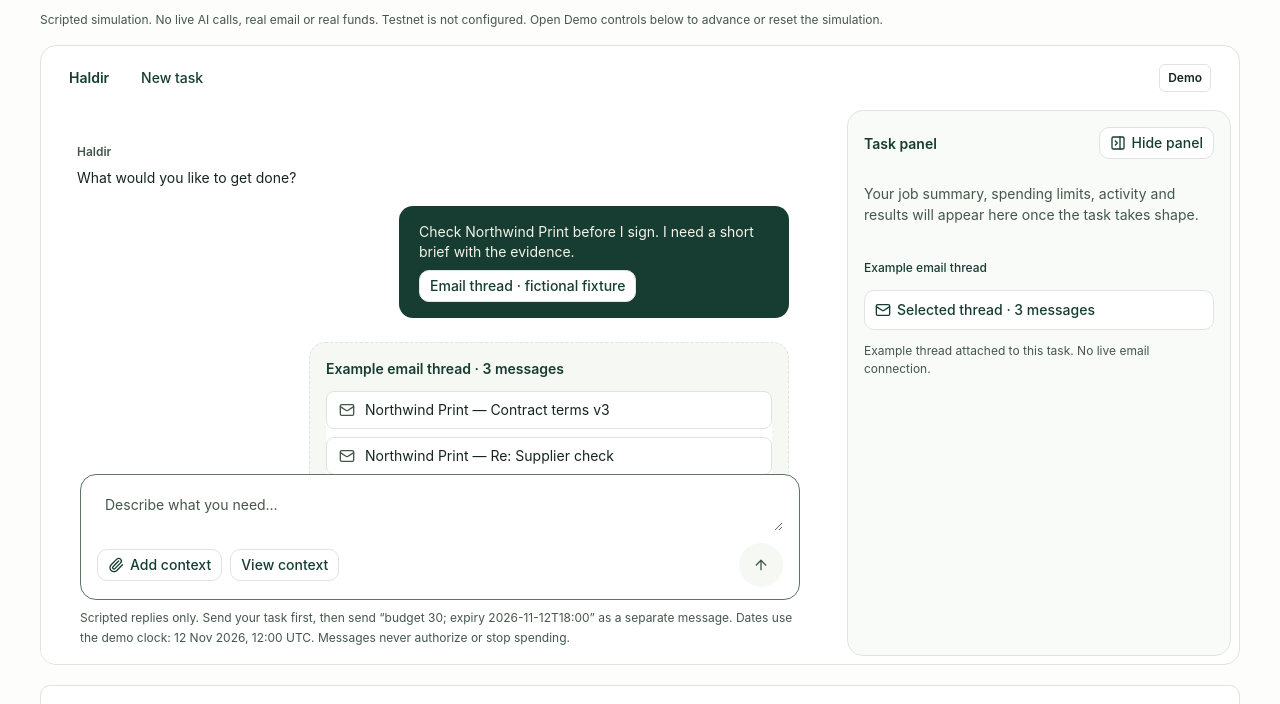
Test case: reset clears the previous context reader search
The image size is (1280, 704).
Click the button "View context".
click(285, 565)  # box 230,549 -> 339,581
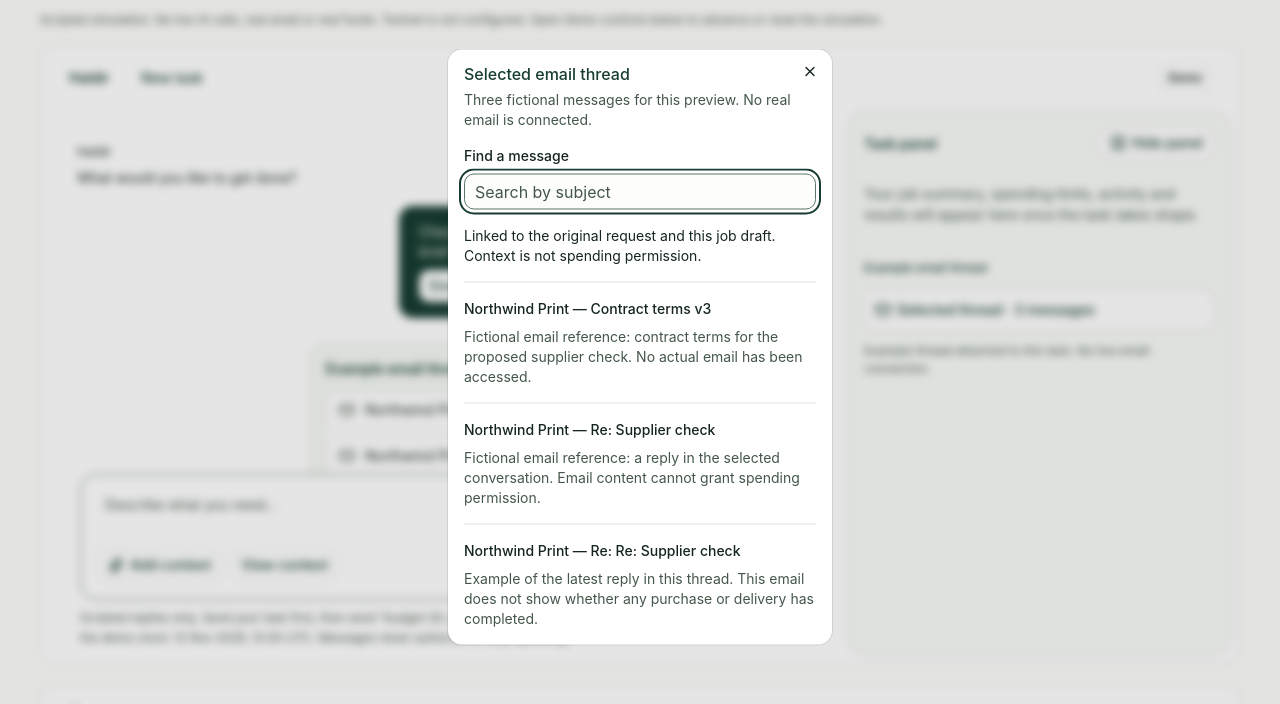
Type "no matches in old task" into the field labelled "Find a message".
click(640, 192); type("no matches in old task")  # box 464,174 -> 816,210
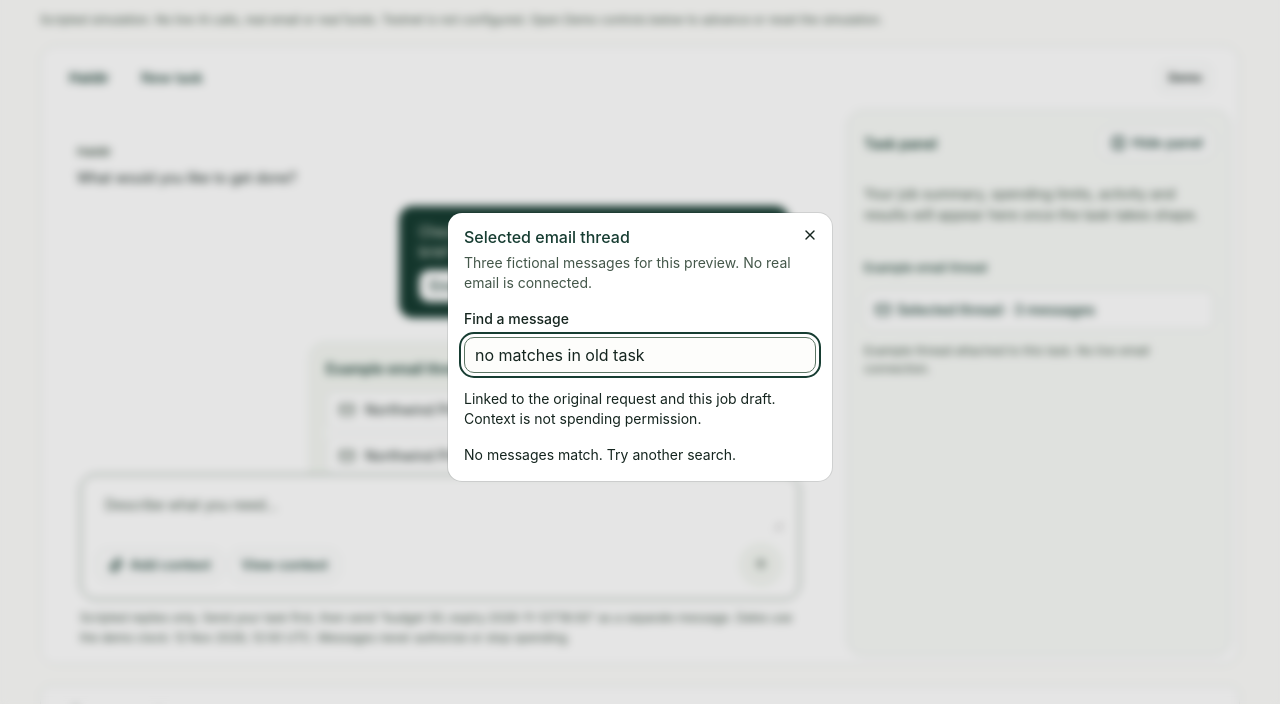
Press Escape
(page scrolled)
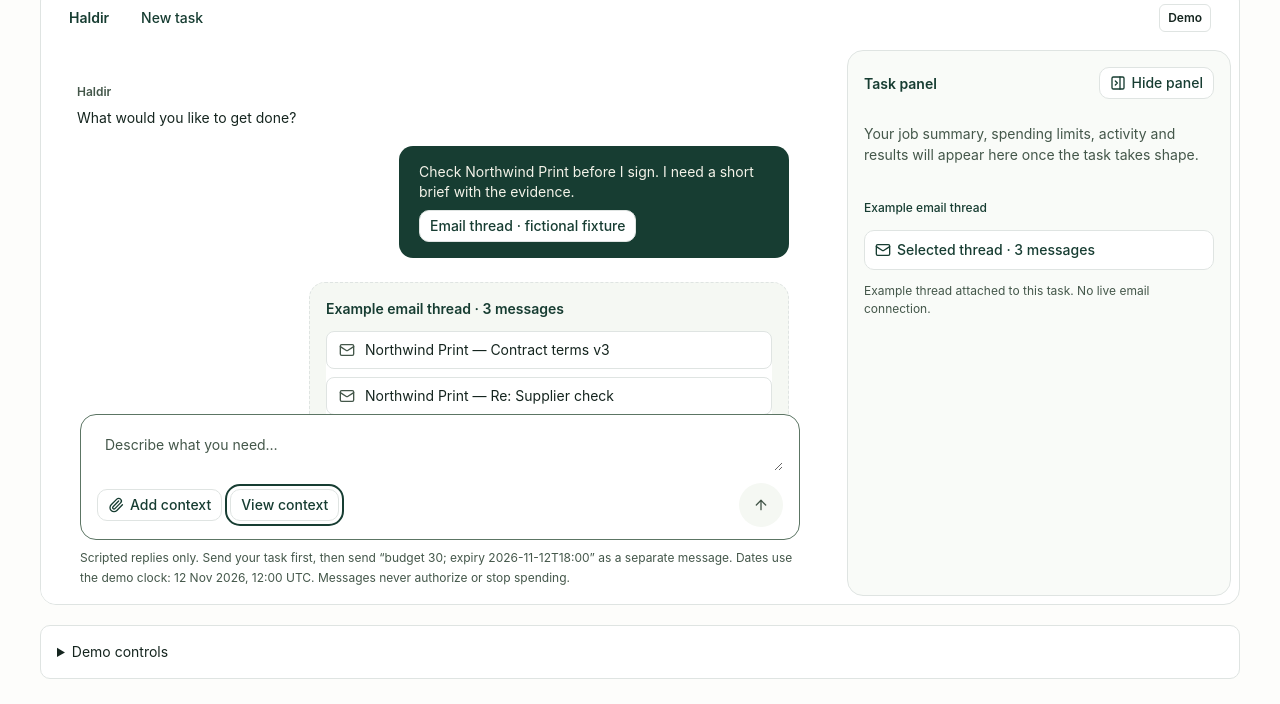
Click the heading "Demo controls".
click(120, 652)  # box 72,643 -> 168,660
(page scrolled)
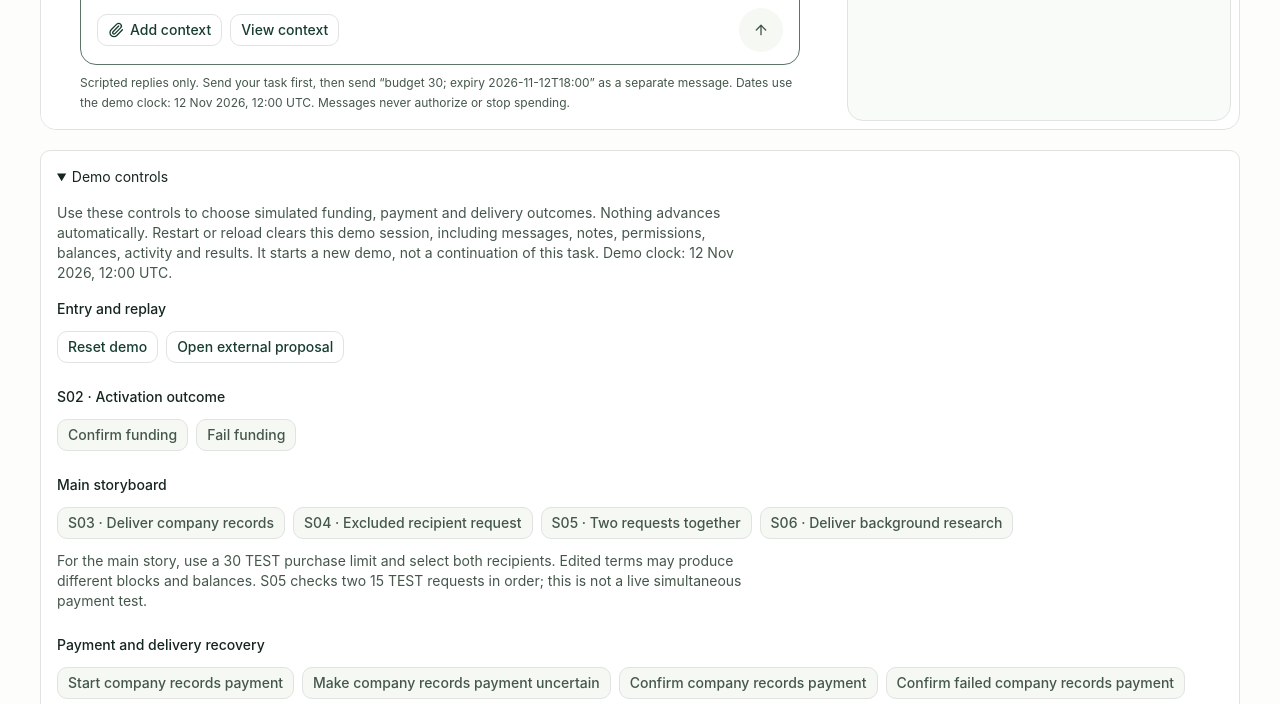
Click the button "Reset demo".
click(108, 347)  # box 57,331 -> 158,363
(page scrolled)
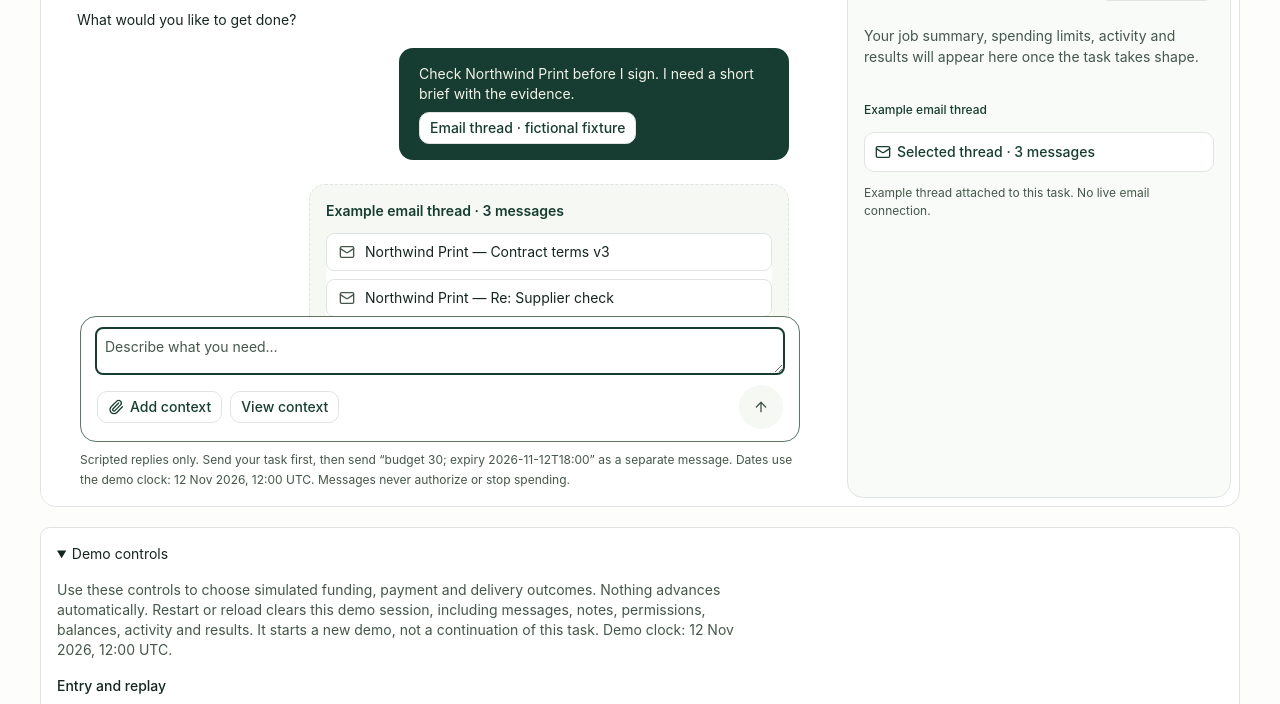
Click the button "View context".
click(285, 407)  # box 230,391 -> 339,423
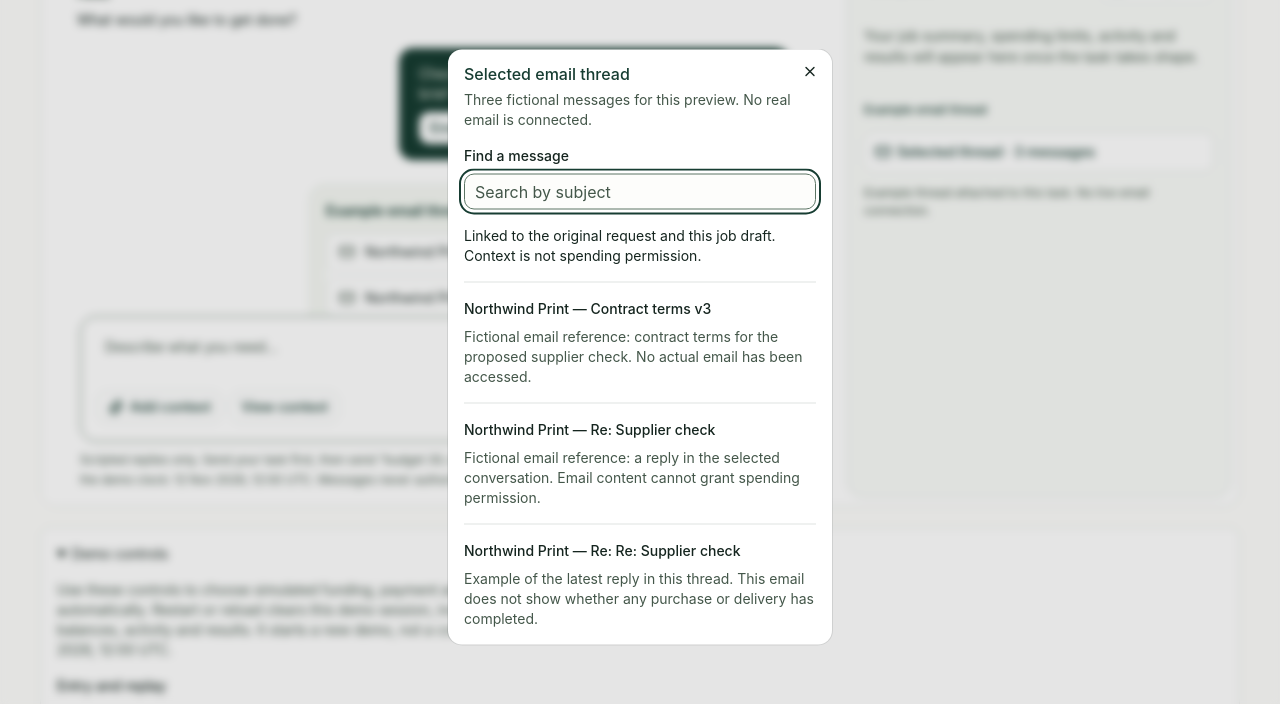
Now the field labelled "Find a message" is empty, box 464,174 -> 816,210
